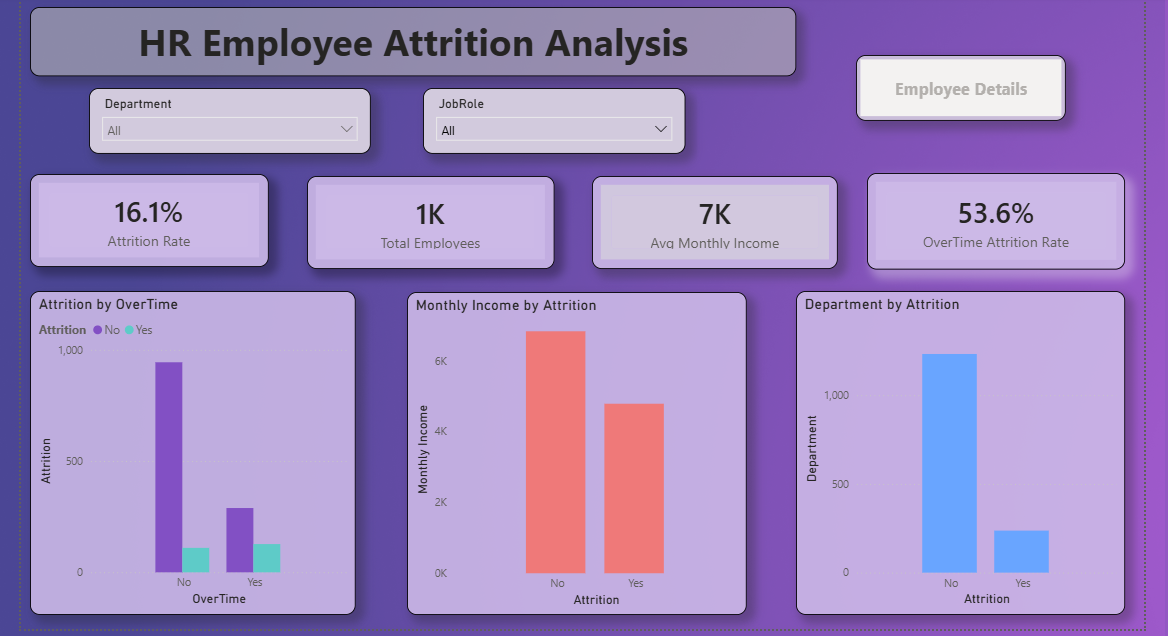

The page's visual inventory and layout, read from the dashboard file:
{"tool":"powerbi","page":{"name":"Main ","canvas":[1280,720],"ordinal":0},"visuals":[{"type":"textbox","box":[9.9,11.3,873.2,78.9],"z":0},{"type":"cardVisual","fields":{"Data":["HR_Attrition_cleaned.Attrition Rate"]},"box":[9.9,201.4,271.8,105.6],"z":2000},{"type":"cardVisual","fields":{"Data":["HR_Attrition_cleaned.Total Employees"]},"box":[325.4,204.2,281.7,105.6],"z":4000},{"type":"cardVisual","fields":{"Data":["HR_Attrition_cleaned.OverTime Attrition Rate"]},"box":[963.4,200,294.4,109.9],"z":5000},{"type":"cardVisual","fields":{"Data":["HR_Attrition_cleaned.Avg Monthly Income"]},"box":[650.7,204.2,280.3,105.6],"z":6000},{"type":"clusteredColumnChart","title":"Attrition by OverTime","fields":{"Category":["HR_Attrition_cleaned.OverTime"],"Y":["CountNonNull(HR_Attrition_cleaned.Attrition)"],"Series":["HR_Attrition_cleaned.Attrition"]},"box":[10.3,335.4,371.4,368.8],"z":7000},{"type":"clusteredColumnChart","fields":{"Y":["Avg(HR_Attrition_cleaned.MonthlyIncome)"],"Category":["HR_Attrition_cleaned.Attrition"]},"box":[439.5,335.5,386.8,368.4],"z":8000},{"type":"clusteredColumnChart","fields":{"Y":["CountNonNull(HR_Attrition_cleaned.Department)"],"Category":["HR_Attrition_cleaned.Attrition"]},"box":[882.9,335.4,375.3,368.8],"z":9000},{"type":"slicer","fields":{"Values":["HR_Attrition_cleaned.Department"]},"box":[77.5,104.2,321.1,74.6],"z":10250},{"type":"slicer","fields":{"Values":["HR_Attrition_cleaned.JobRole"]},"box":[457.7,104.2,298.6,74.6],"z":10500},{"type":"actionButton","box":[950.7,66.2,239.4,74.6],"z":11000}]}

Visuals, with their boxes in screenshot pixels (x1, y1, x2, y2):
textbox: 30 7 790 75
cardVisual - HR_Attrition_cleaned.Attrition Rate: 30 172 267 264
cardVisual - HR_Attrition_cleaned.Total Employees: 305 175 550 267
cardVisual - HR_Attrition_cleaned.OverTime Attrition Rate: 860 171 1116 267
cardVisual - HR_Attrition_cleaned.Avg Monthly Income: 588 175 832 267
"Attrition by OverTime" clusteredColumnChart: 30 289 354 610
clusteredColumnChart - Avg(HR_Attrition_cleaned.MonthlyIncome) x HR_Attrition_cleaned.Attrition: 404 289 741 610
clusteredColumnChart - CountNonNull(HR_Attrition_cleaned.Department) x HR_Attrition_cleaned.Attrition: 790 289 1117 610
slicer - HR_Attrition_cleaned.Department: 89 88 368 153
slicer - HR_Attrition_cleaned.JobRole: 420 88 680 153
actionButton: 849 55 1058 120
